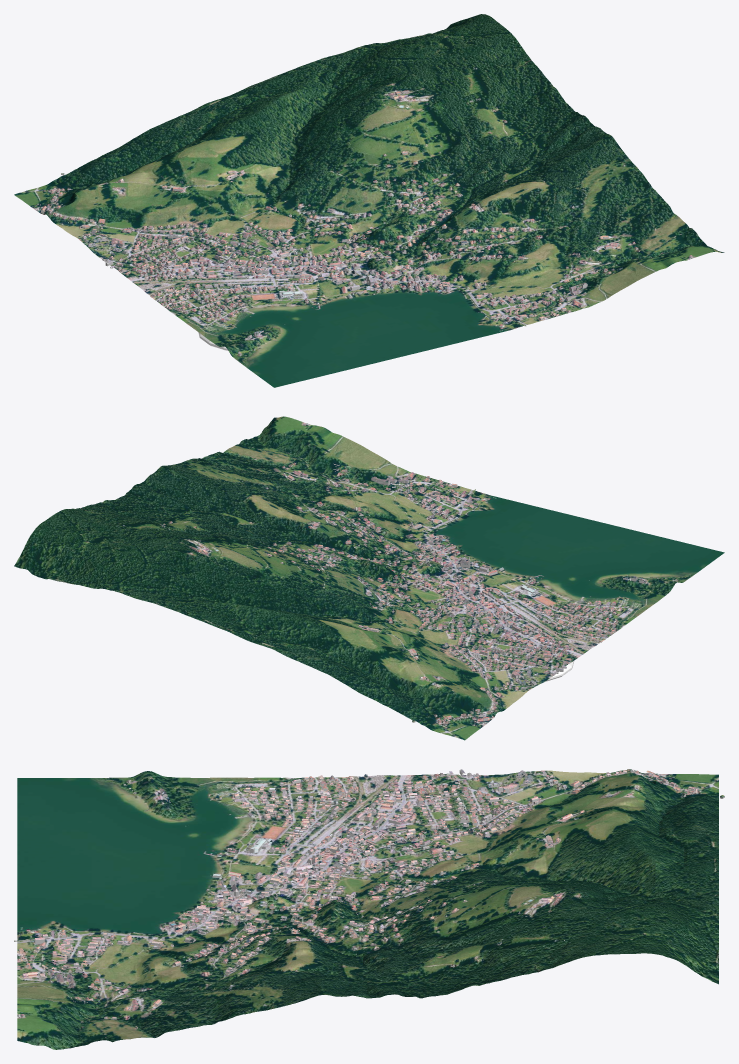
Rendered from asset.glb.
The picture shows the model from 3 angles, top to bottom: view 1: azimuth 30°, elevation 25°; view 2: azimuth 150°, elevation 25°; view 3: azimuth 270°, elevation 25°; orthographic projection. The views are drawn at different scales.
Parts seen in each view (by area): view 1: DGM_Schliersee_10m, Dach, Wand; view 2: DGM_Schliersee_10m, Dach, Wand; view 3: DGM_Schliersee_10m, Dach, Wand.
Boxes of the visible parts, left/top/right/bottom form: DGM_Schliersee_10m: left=14, top=14, right=724, bottom=387; Dach: left=32, top=67, right=691, bottom=355; Wand: left=33, top=68, right=692, bottom=355; DGM_Schliersee_10m: left=14, top=416, right=724, bottom=740; Dach: left=122, top=423, right=677, bottom=727; Wand: left=124, top=424, right=677, bottom=728; DGM_Schliersee_10m: left=17, top=769, right=718, bottom=1049; Dach: left=14, top=769, right=724, bottom=1037; Wand: left=14, top=770, right=724, bottom=1037.
Bounding box in the file's own units: 2005 × 632 × 2016.
Materials: 7 (3 with a texture image).
